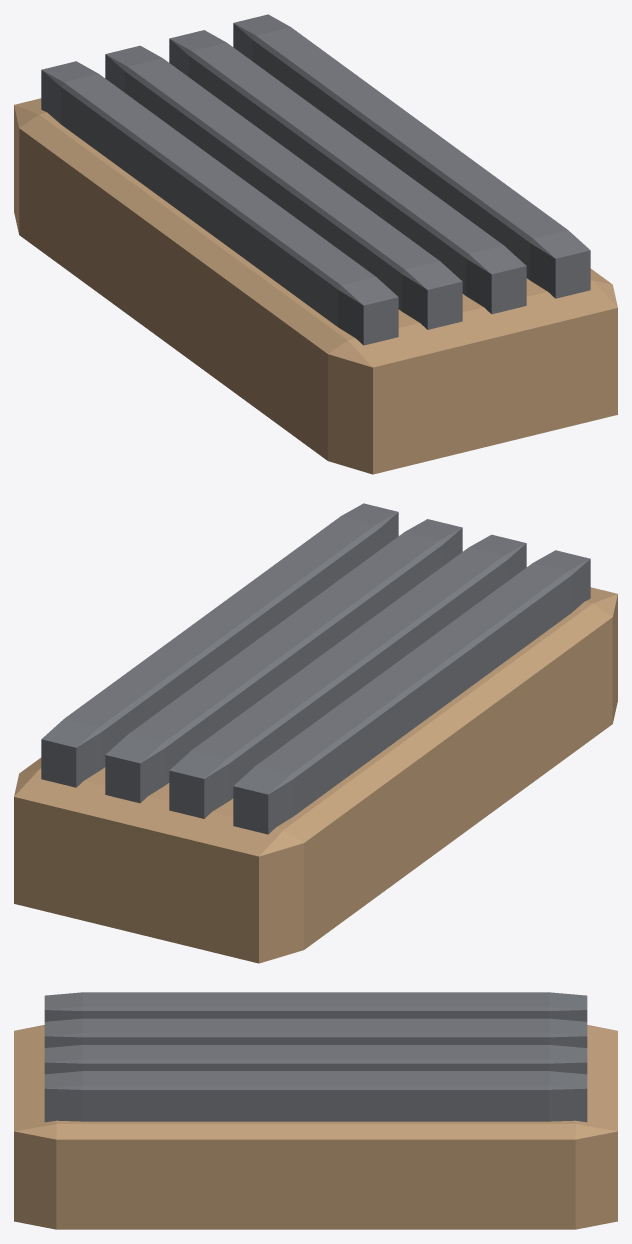
The model's file is b14_pallet_lumber_bundle.glb.
3 views of the same model, one above another, from view 1: azimuth 30°, elevation 25°; view 2: azimuth 150°, elevation 25°; view 3: azimuth 270°, elevation 25° (orthographic). The views are drawn at different scales.
Parts seen in each view (by area): view 1: b14_pallet_lumber_bundle; view 2: b14_pallet_lumber_bundle; view 3: b14_pallet_lumber_bundle.
Part boxes in pixels (box(x1,y1,x2,y2)): b14_pallet_lumber_bundle: box(14, 14, 617, 474); b14_pallet_lumber_bundle: box(14, 503, 617, 963); b14_pallet_lumber_bundle: box(14, 992, 617, 1229).
Bounding box in the file's own units: 1.1 × 0.612 × 2.4.
